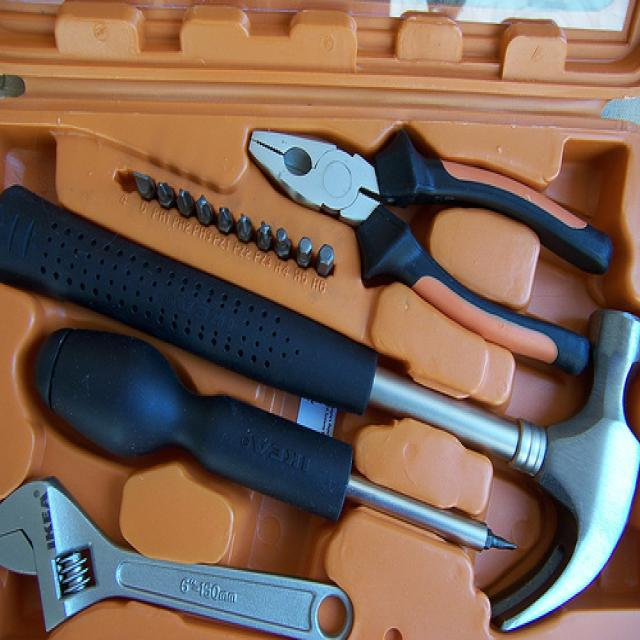hammer: (243, 258, 640, 590)
screw driver: (68, 334, 505, 565)
wrench: (0, 457, 362, 640)
